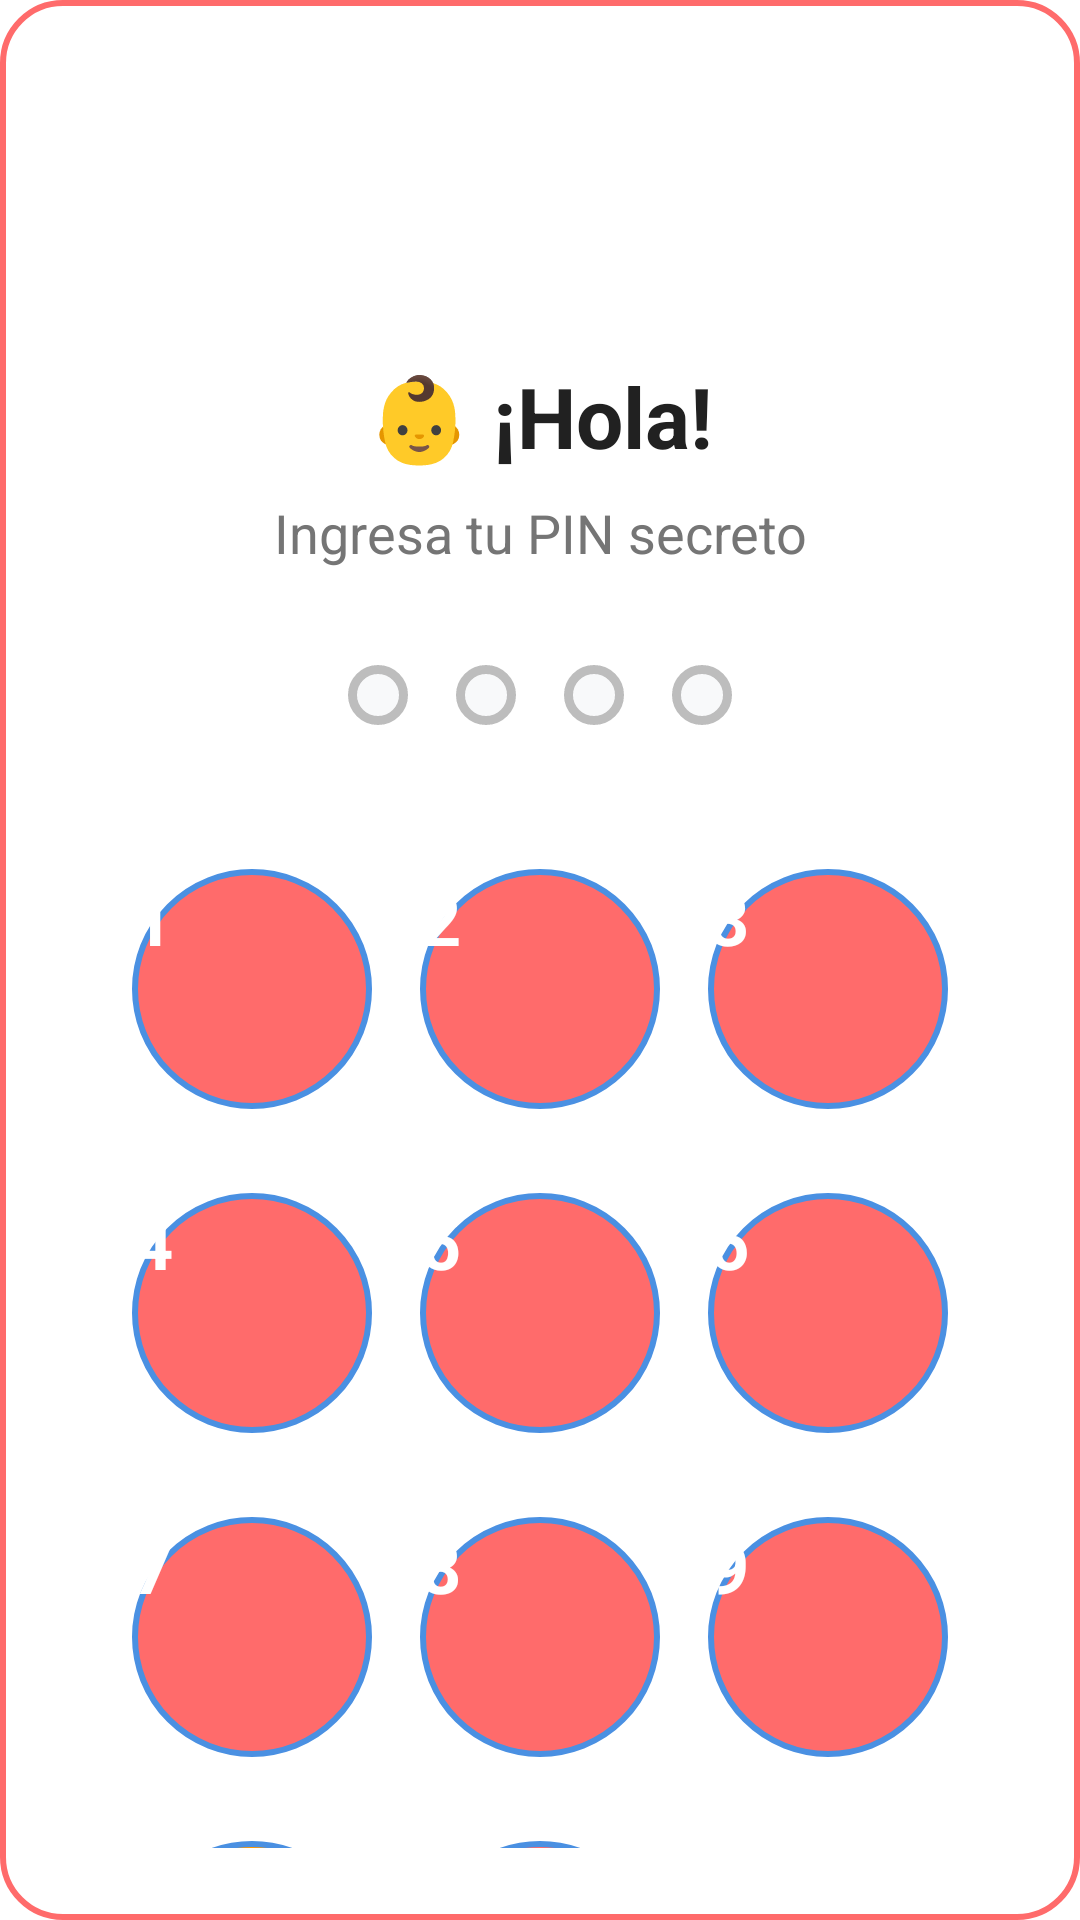

Icons on this 1080px×1920px Android screen, each with its box as Rect(x1, y1, x2, y2):
pin dot empty: Rect(348, 665, 408, 725), Rect(456, 665, 516, 725), Rect(564, 665, 624, 725), Rect(672, 665, 732, 725)
